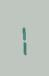one: (19, 20, 28, 55)
